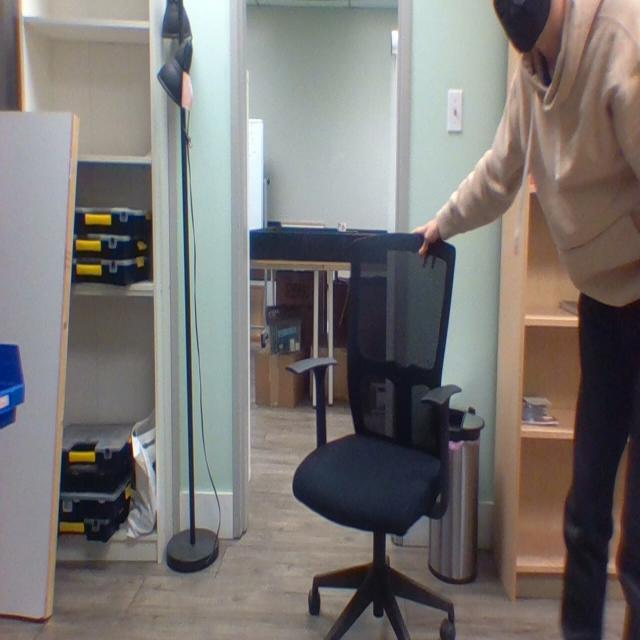black-chair: (292, 240, 466, 635)
